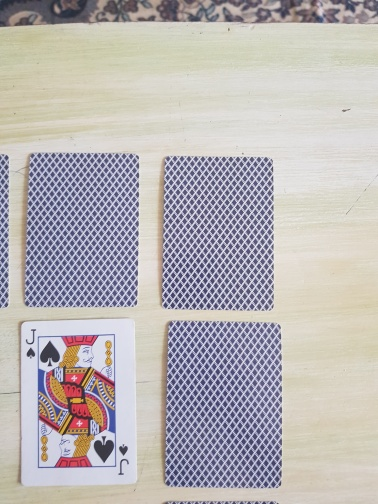jack: (19, 318, 139, 488)
